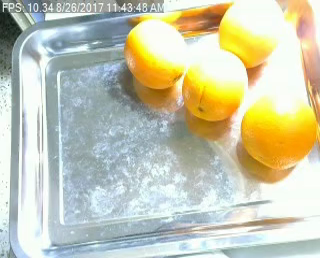Orange: (240, 88, 317, 169), (182, 47, 248, 122), (124, 19, 190, 89), (218, 1, 284, 70)
